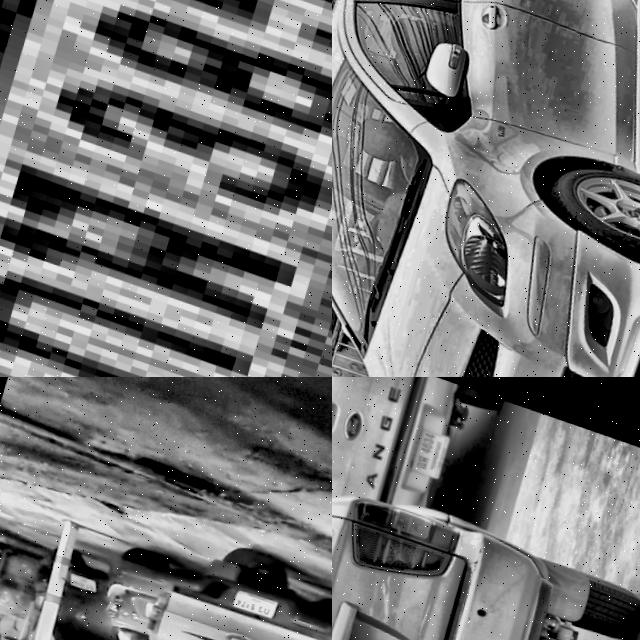license-plate: (0, 0, 332, 377), (409, 414, 457, 472), (300, 539, 331, 574)
